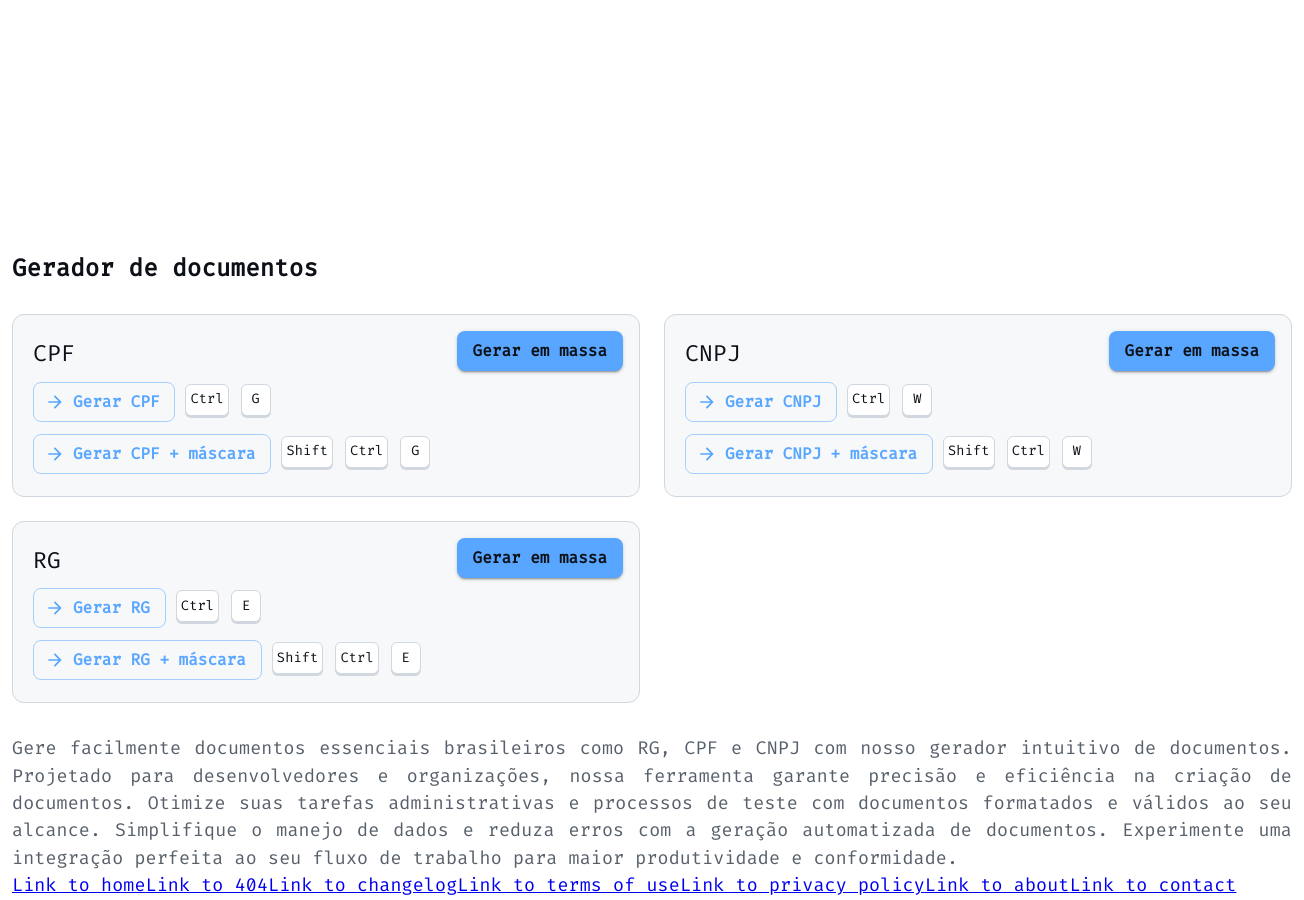
Test: Router › should render "/404" route
(page scrolled)
Check: the button "Gerar CPF" is shown, box [33,382,175,422]
Click the link "Link to 404" at (207, 885), box [146,873,268,897]
(page scrolled)
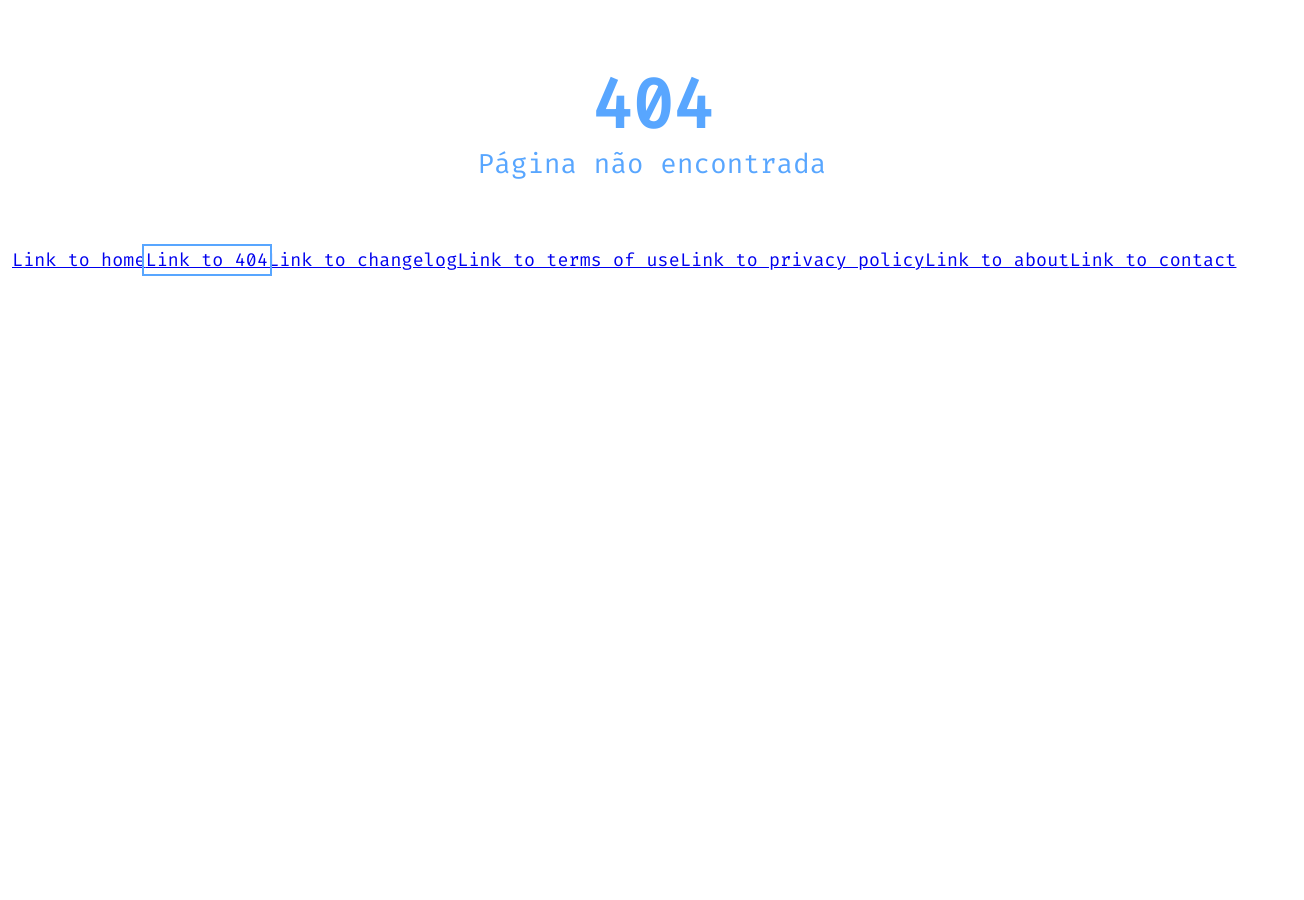
Check: the heading "404" is shown, box [591,60,713,150]
